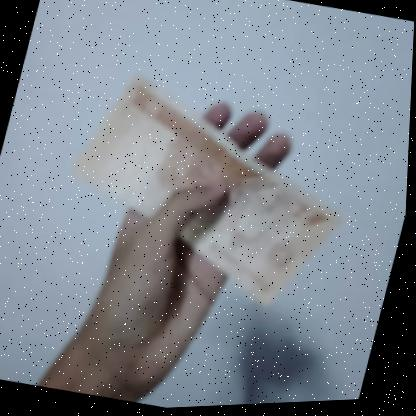twenty-back-vef: (47, 60, 373, 327)
